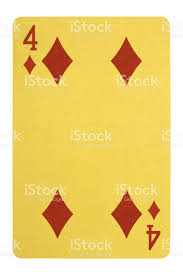four of diamonds: (14, 19, 169, 260)
